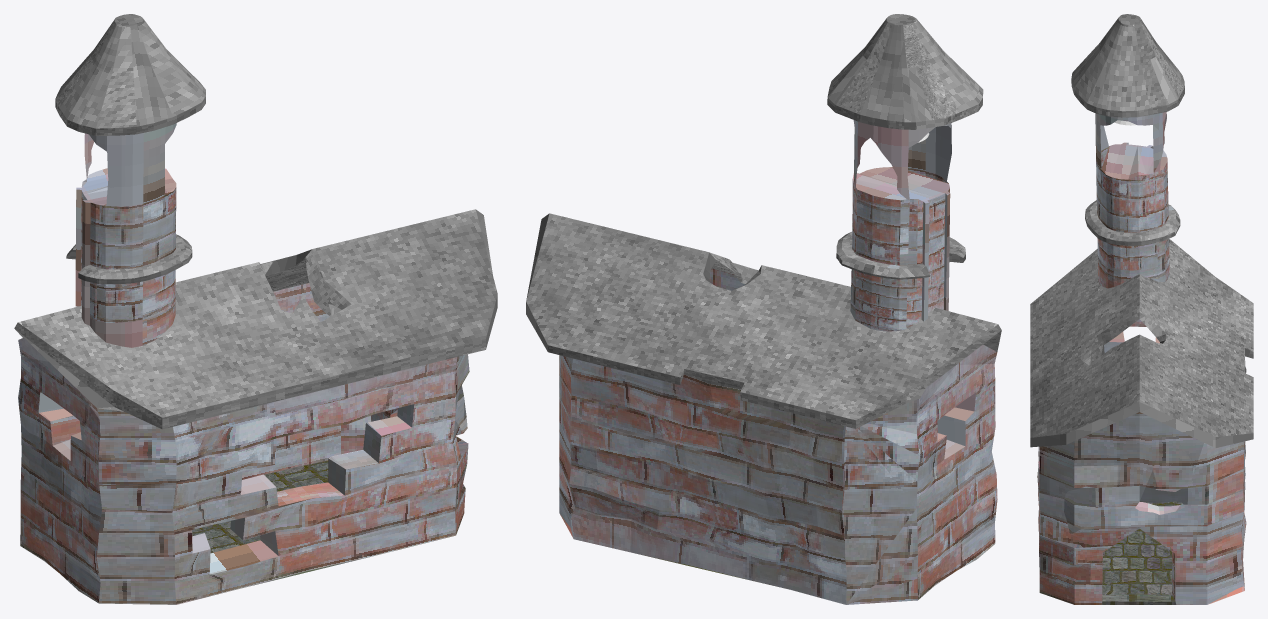
File: newerchapel.glb
The picture shows the model from 3 angles, left to right: view 1: azimuth 30°, elevation 25°; view 2: azimuth 150°, elevation 25°; view 3: azimuth 270°, elevation 25°; orthographic projection. The views are drawn at different scales.
Parts seen in each view (by area): view 1: Cube; view 2: Cube; view 3: Cube.
Part boxes in pixels (left/top/right/bottom): Cube: left=14, top=14, right=497, bottom=604; Cube: left=526, top=14, right=1001, bottom=604; Cube: left=1030, top=14, right=1253, bottom=604.
Bounding box in the file's own units: 38.48 × 42.73 × 18.74.
Materials: 10 (7 with a texture image).
